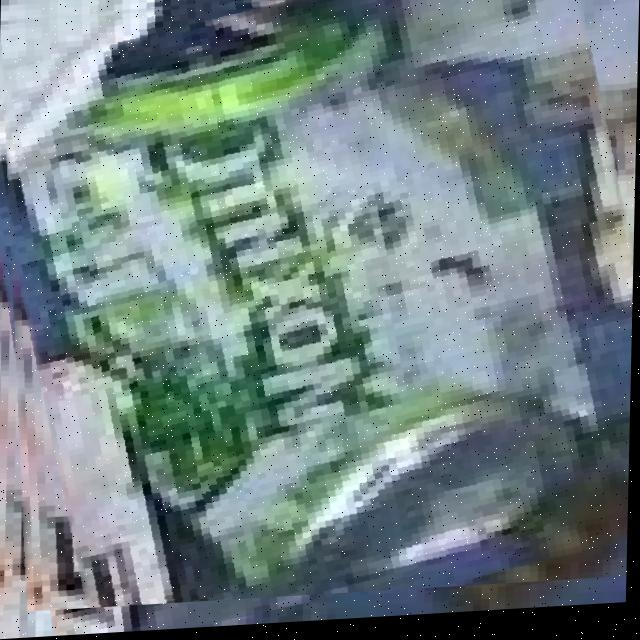can: (5, 0, 633, 603)
